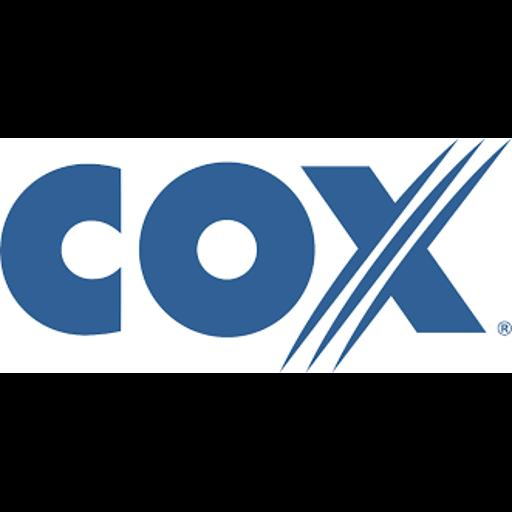Cox Communications: (0, 138, 512, 373)
